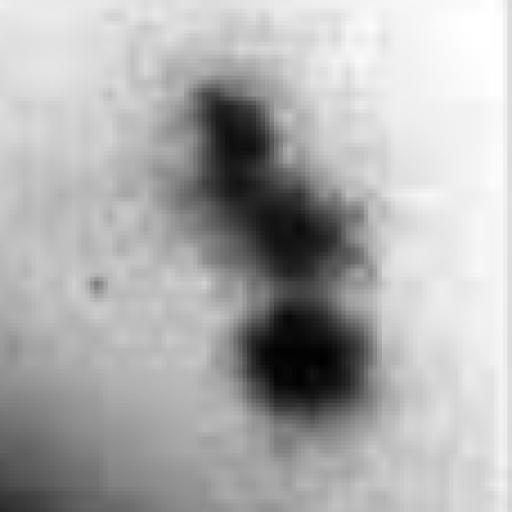CFU-GM: (198, 84, 332, 277), (247, 298, 364, 407)
